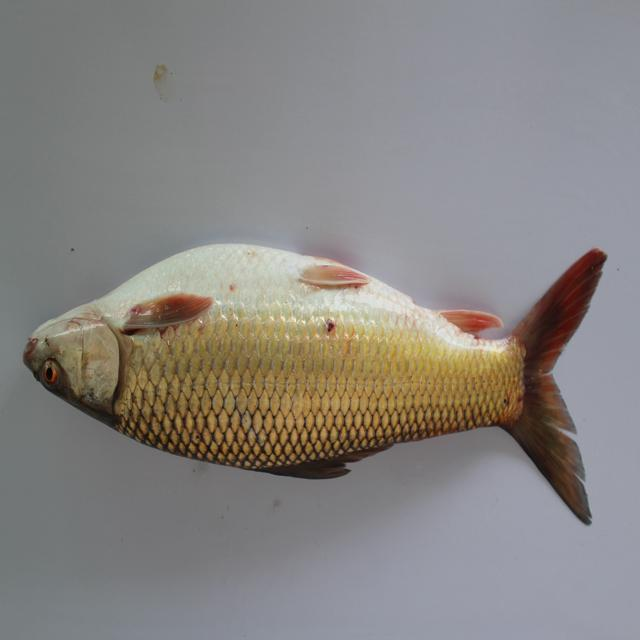Mori: (23, 226, 622, 538)
